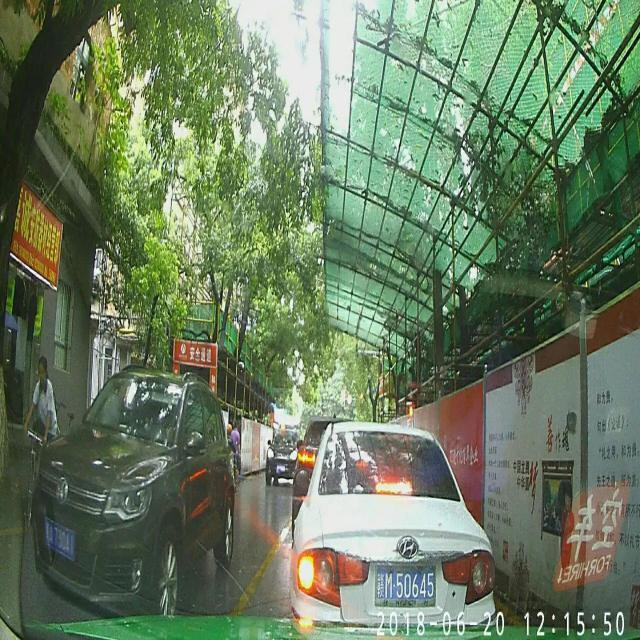car: (34, 364, 236, 624), (290, 417, 496, 637), (292, 417, 372, 540), (264, 428, 302, 484)
